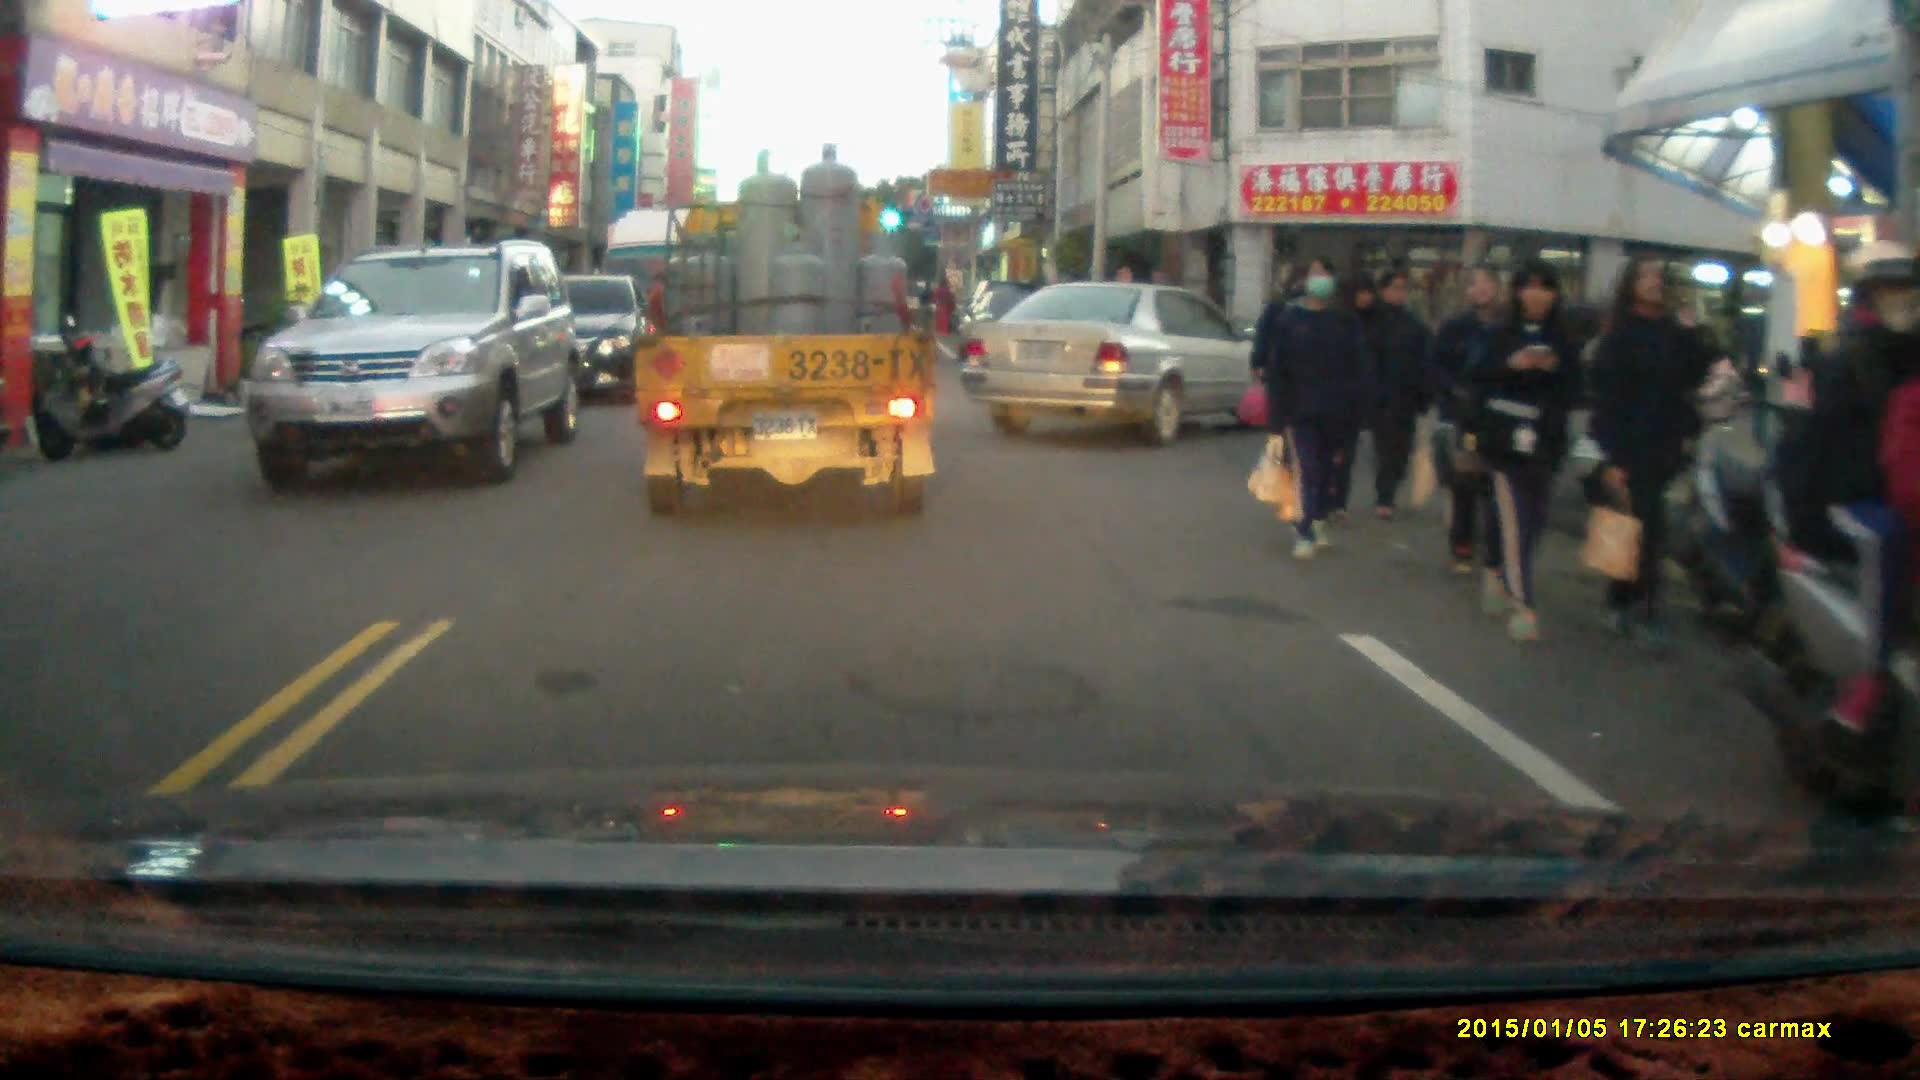pedestrian: (1591, 253, 1710, 657), (1469, 254, 1583, 648), (1265, 256, 1357, 565), (1428, 262, 1515, 584), (1355, 265, 1435, 523)
rider: (1750, 242, 1920, 830)
vehicle: (635, 145, 952, 523), (248, 242, 581, 493), (959, 279, 1301, 445), (468, 270, 661, 411)
